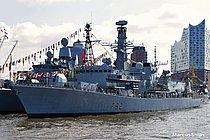MIL_Ship: (10, 20, 203, 115)
